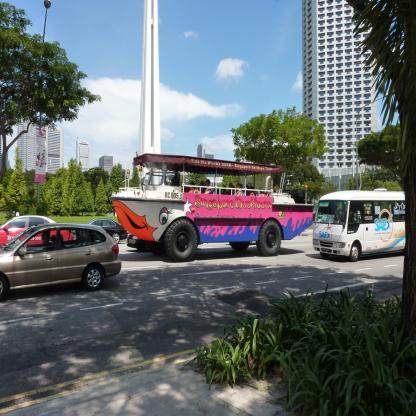Car: (1, 222, 130, 301), (1, 213, 74, 249), (88, 219, 128, 244), (126, 233, 146, 251)
